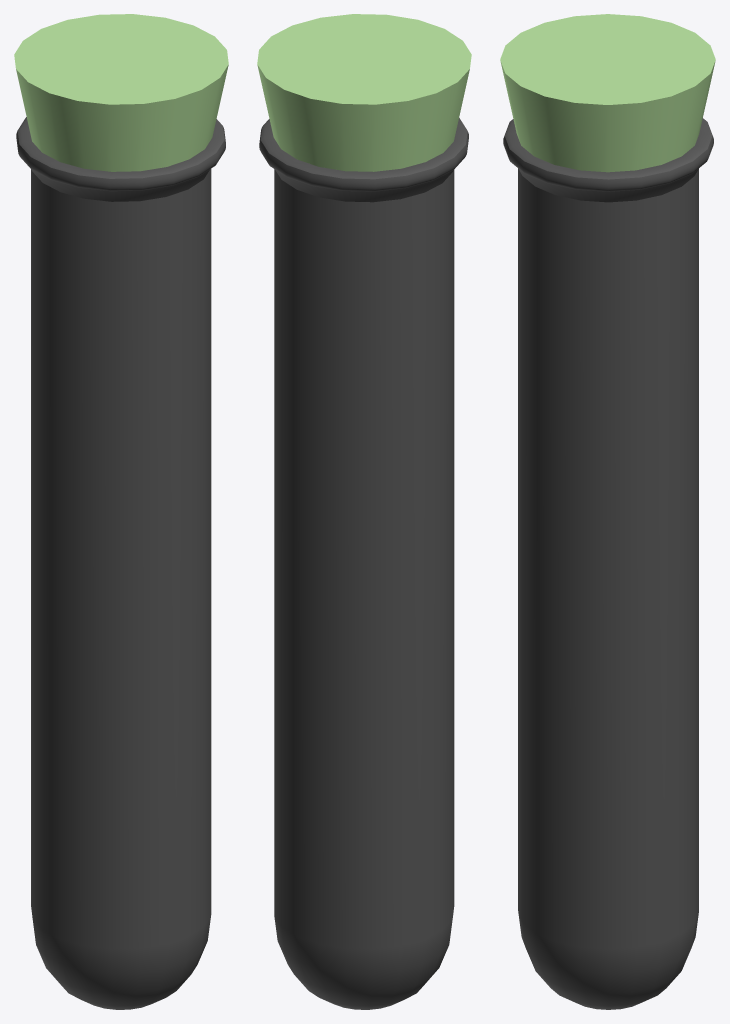
File: Tubo de ensayo 2.fbx
3 renders of one model, left to right at view 1: azimuth 30°, elevation 25°; view 2: azimuth 150°, elevation 25°; view 3: azimuth 270°, elevation 25°, orthographic.
Visible parts, largest first — view 1: pocion6; view 2: pocion6; view 3: pocion6.
Part boxes in pixels (x1,y1,x2,y2): pocion6: [14, 14, 228, 1009]; pocion6: [257, 14, 471, 1009]; pocion6: [500, 14, 715, 1009].
Bounding box in the file's own units: 0.6506 × 3.12 × 0.6506.
